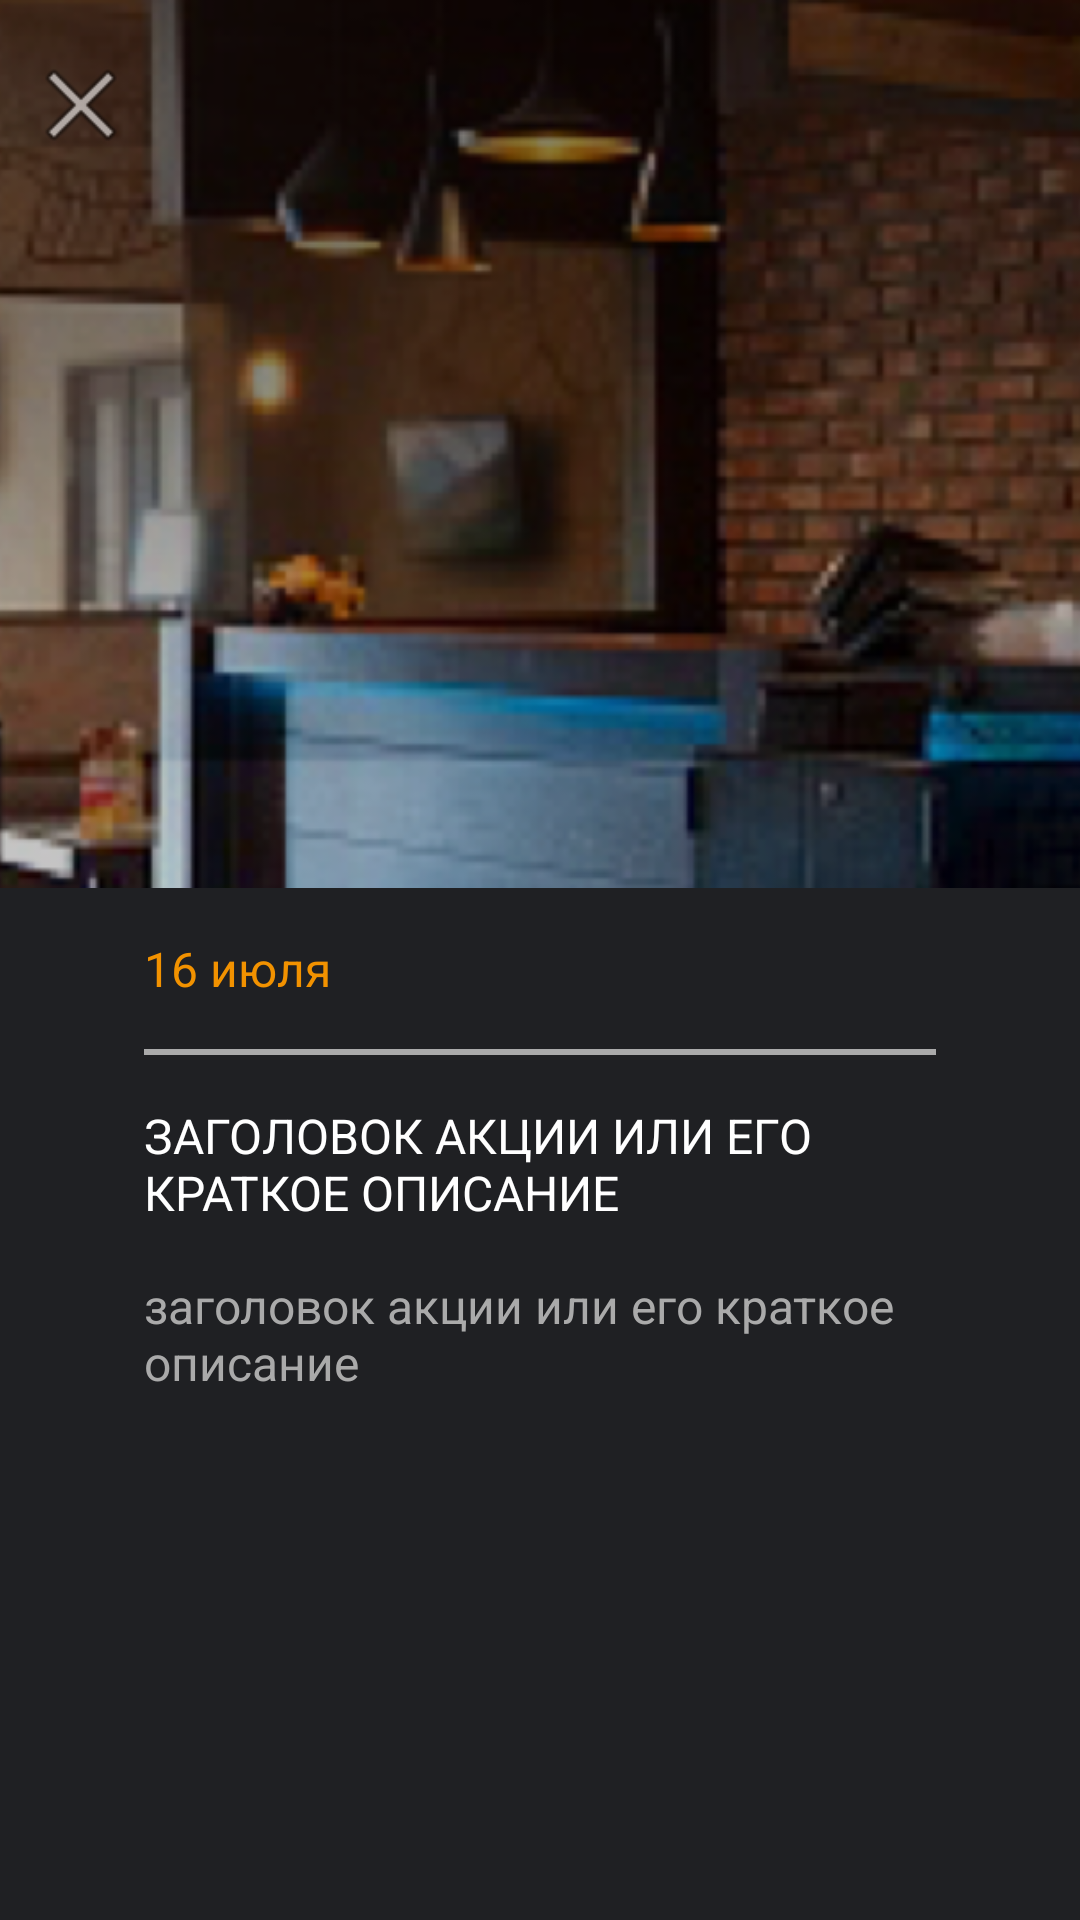

Where icons sit on this 1080px x 1920px app screen, as {"left": x1, "top": y1, "right": x2, "bottom": y2}:
close clear cancel: {"left": 49, "top": 72, "right": 115, "bottom": 138}
